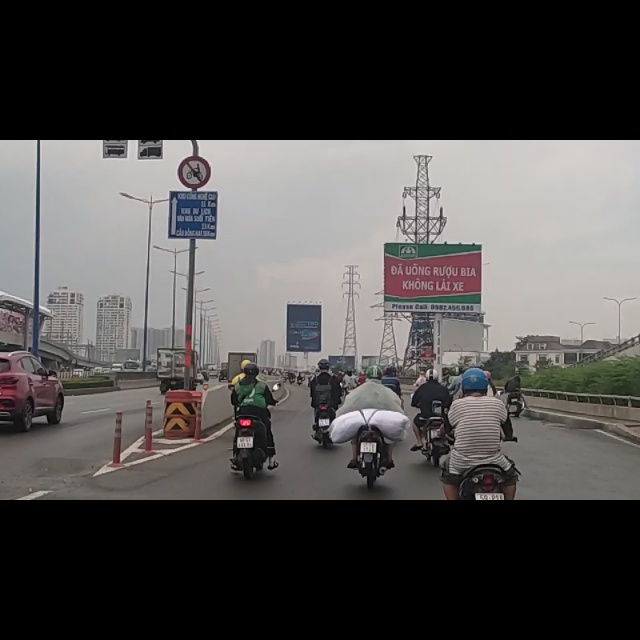bien_cam: (176, 27, 211, 85)
